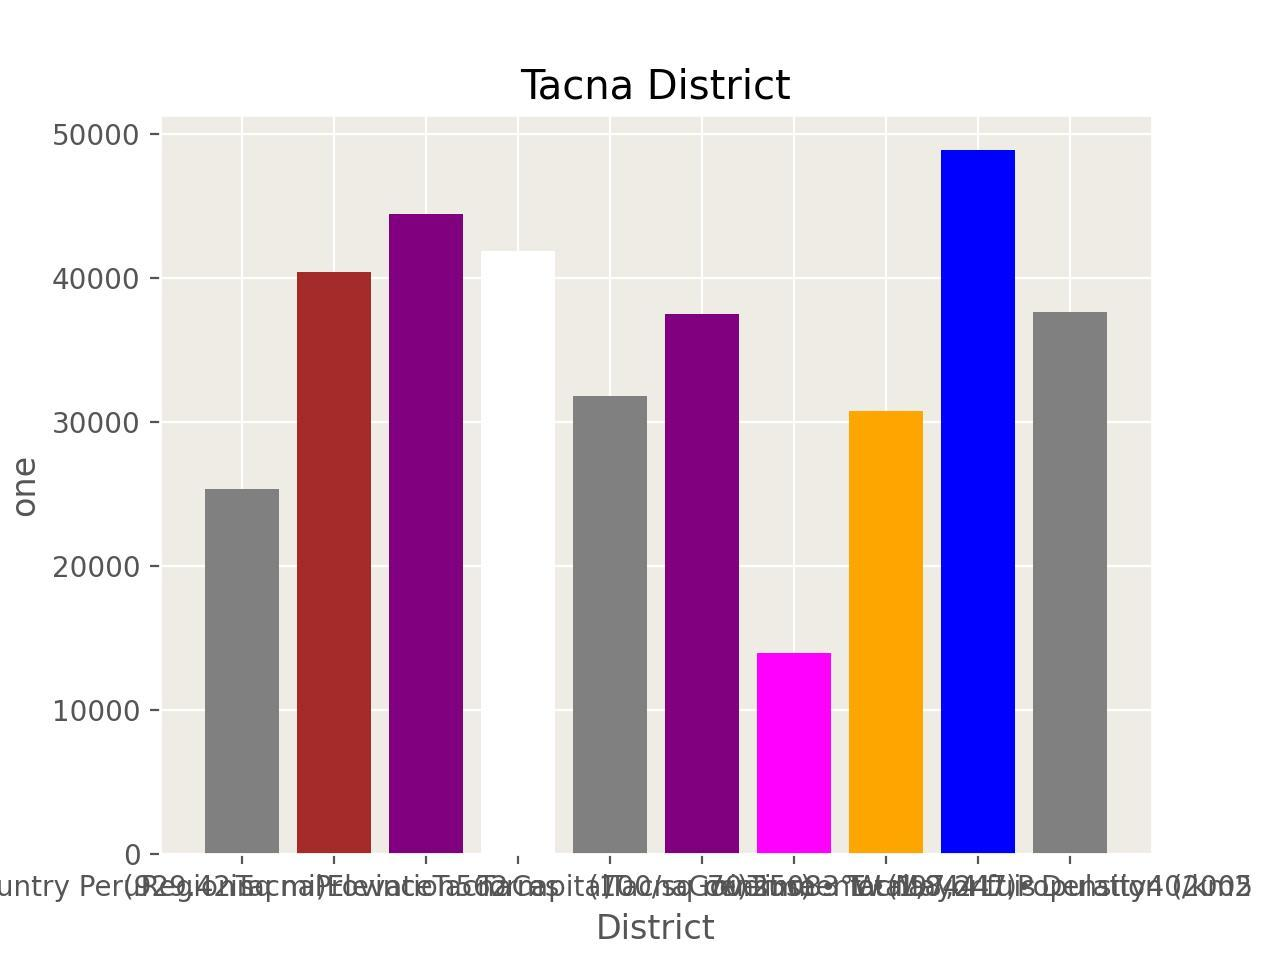axis: (7, 122, 140, 871)
rectangle: (941, 150, 1015, 854), (389, 214, 463, 854), (481, 251, 555, 854), (297, 271, 371, 854), (1033, 313, 1107, 854), (665, 315, 739, 854), (573, 396, 647, 854), (849, 410, 923, 854), (205, 488, 279, 854), (757, 652, 831, 854)
